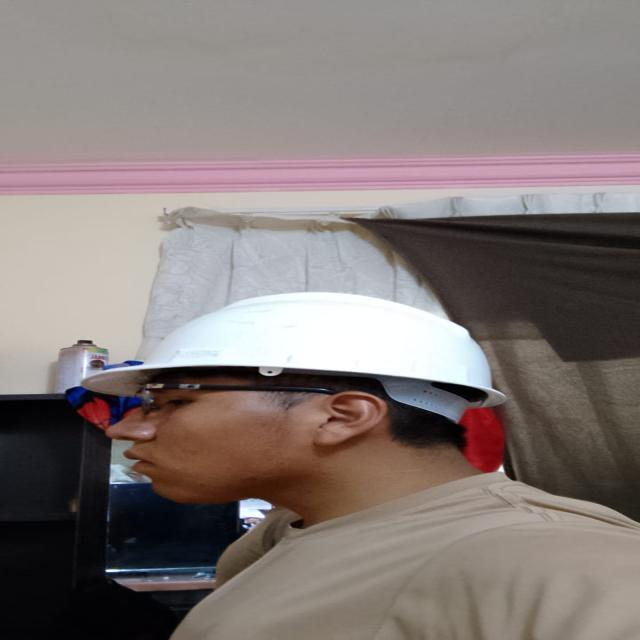casco: (48, 275, 540, 419)
